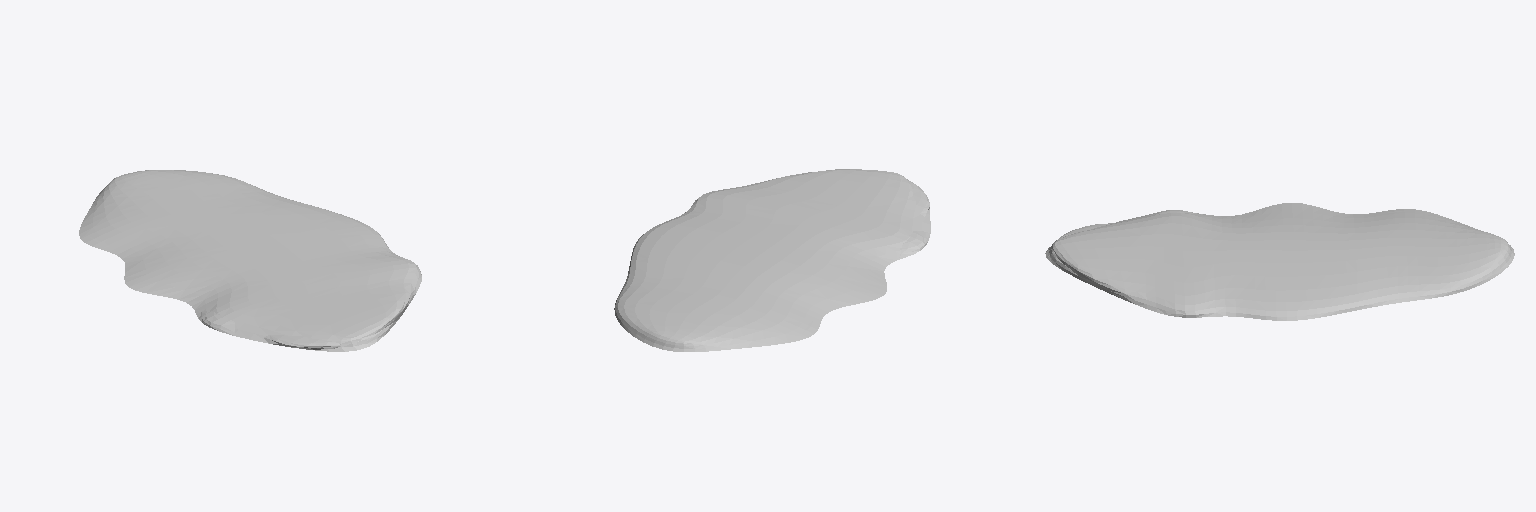
Rendered from Island.obj.
3 views of the same model, side by side, from view 1: azimuth 30°, elevation 25°; view 2: azimuth 150°, elevation 25°; view 3: azimuth 270°, elevation 25° (orthographic).
Parts seen in each view (by area): view 1: Group26535, Group14854; view 2: Group26535, Group14854; view 3: Group26535, Group14854.
Part boxes in pixels (x1,y1,x2,y2): Group26535: (79,170,421,351); Group14854: (81,237,393,349); Group26535: (614,169,930,351); Group14854: (803,181,930,337); Group26535: (1045,203,1514,320); Group14854: (1047,209,1413,277).
Size of the model in its own units: 3.96 by 0.1886 by 6.64.